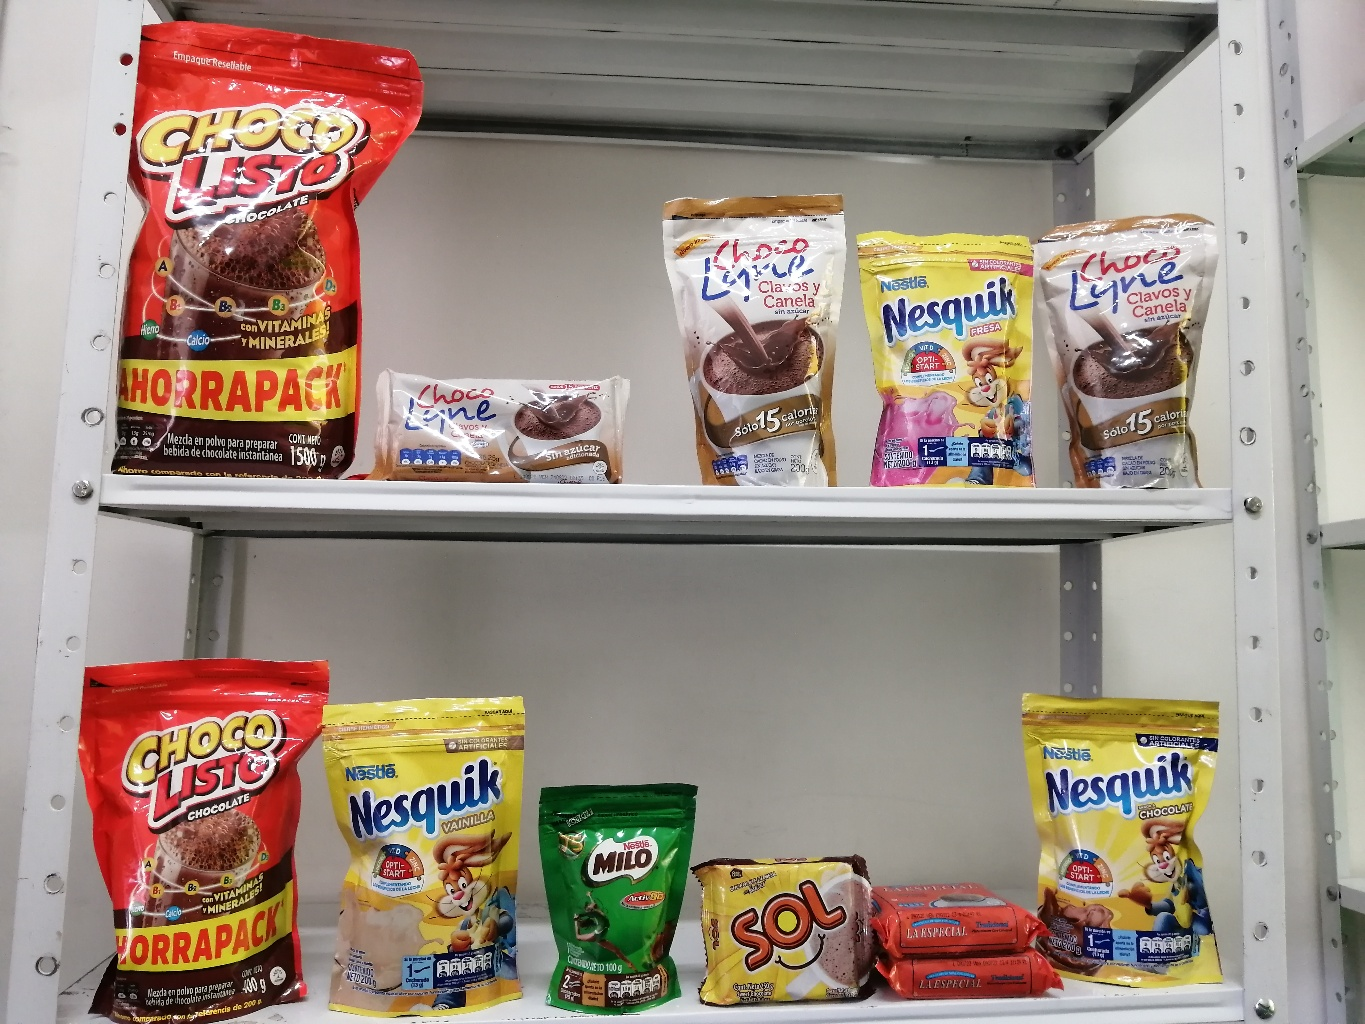COL0170103DYP1,500: (120, 23, 430, 477)
COL0170103DYP40000: (62, 643, 331, 1024)
COL0170203DYP10000: (530, 770, 701, 1014)
COL0170303DYP20000: (1020, 680, 1222, 992)
COL0170305DYP20000: (856, 227, 1041, 485)
COL0170306DYP20000: (294, 680, 534, 1014)
